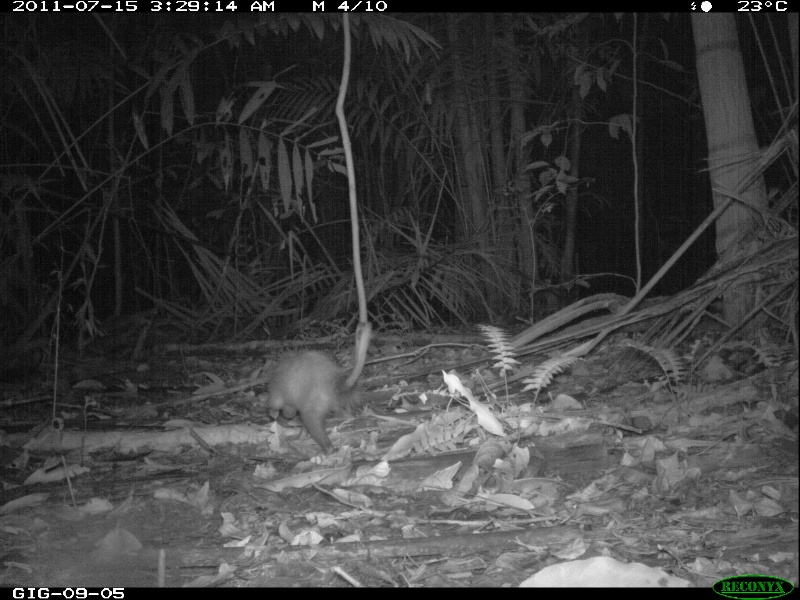opossum: (266, 318, 374, 458)
